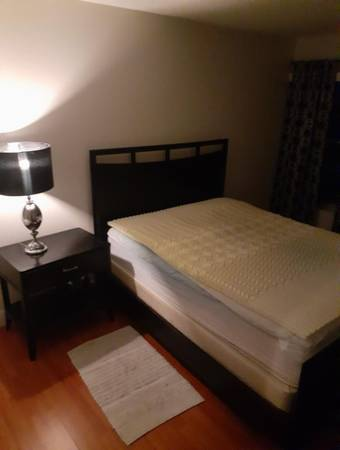bed: (96, 153, 340, 432)
lamp: (1, 142, 64, 255)
night stand: (1, 229, 112, 362)
